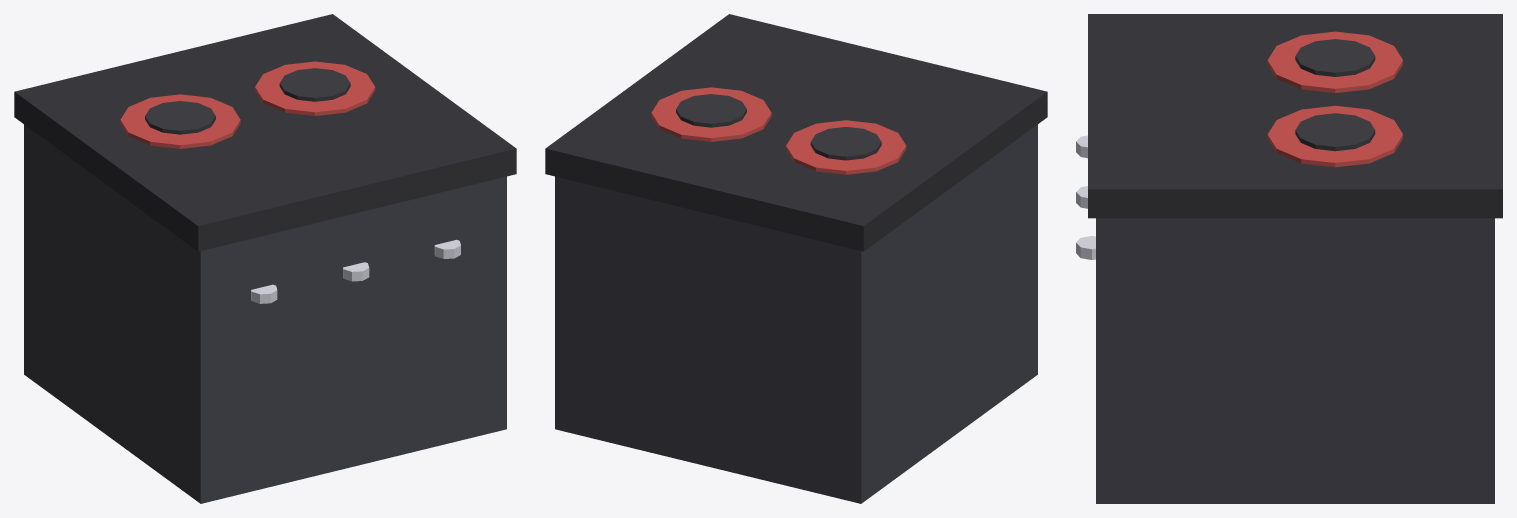
The model's file is stove.glb.
3 renders of one model, left to right at view 1: azimuth 30°, elevation 25°; view 2: azimuth 150°, elevation 25°; view 3: azimuth 270°, elevation 25°, orthographic. The views are drawn at different scales.
Parts seen in each view (by area): view 1: stove; view 2: stove; view 3: stove.
Part boxes in pixels (left/top/right/bottom): stove: left=14, top=14, right=516, bottom=503; stove: left=545, top=14, right=1047, bottom=503; stove: left=1076, top=14, right=1502, bottom=503.
Bounding box in the file's own units: 1.04 × 0.904 × 1.07.
1 material, 1 textured.
